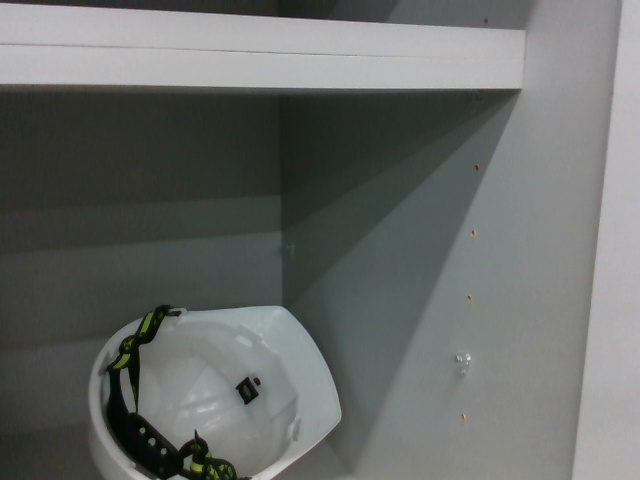helmet: (75, 299, 345, 480)
